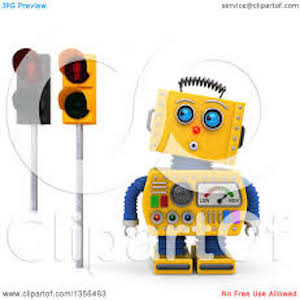red: (69, 59, 82, 78)
